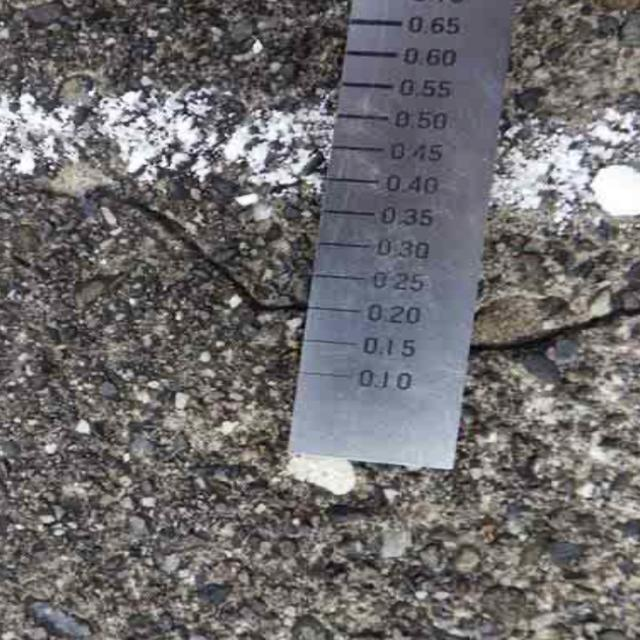crack: (12, 163, 298, 340), (481, 287, 640, 392)
